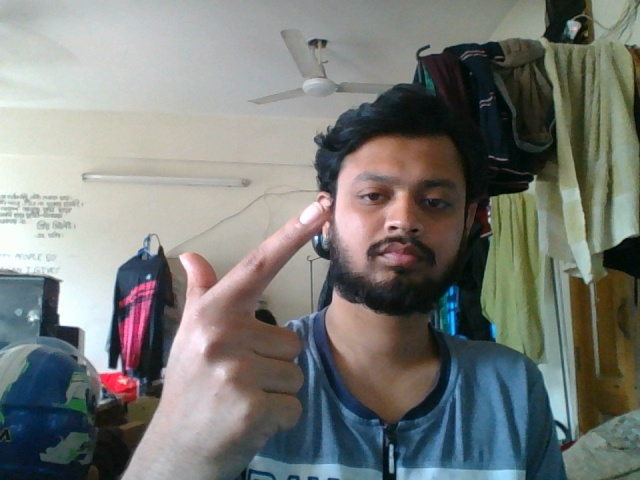tho: (148, 198, 332, 479)
